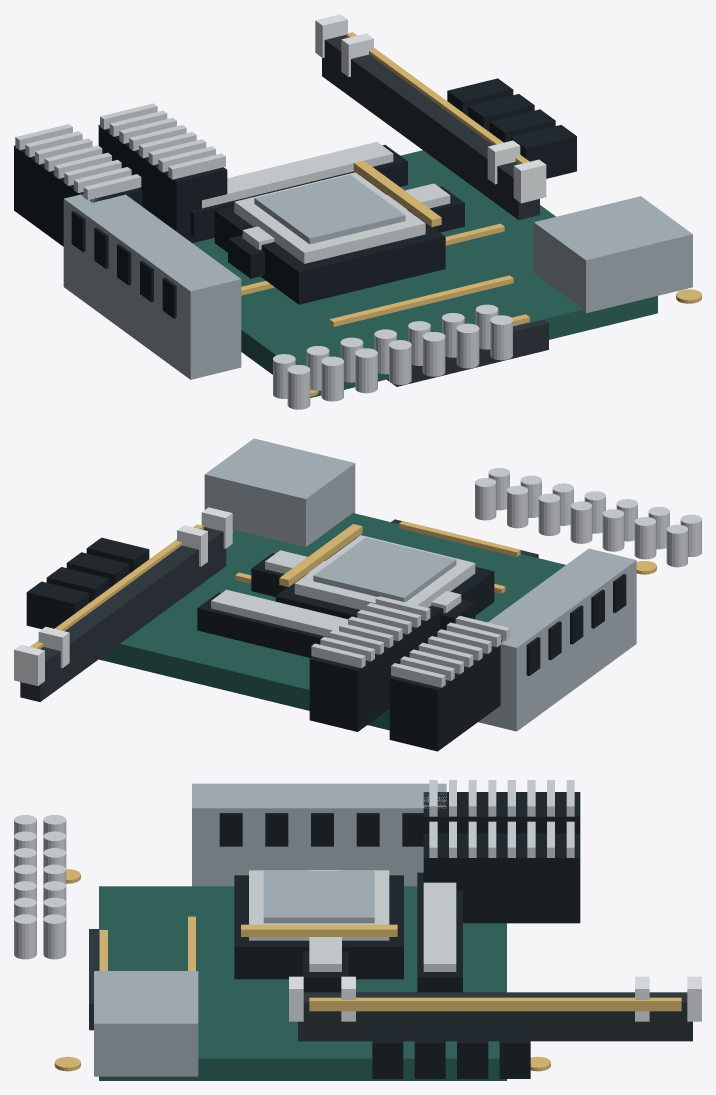
Rendered from b650-itx.glb.
3 renders of one model, top to bottom at view 1: azimuth 30°, elevation 25°; view 2: azimuth 150°, elevation 25°; view 3: azimuth 270°, elevation 25°, orthographic. The views are drawn at different scales.
Parts seen in each view (by area): view 1: b650-itx; view 2: b650-itx; view 3: b650-itx.
Boxes of the visible parts, x1,y1,x2,y2 form: b650-itx: [14, 14, 701, 409]; b650-itx: [14, 438, 701, 751]; b650-itx: [14, 780, 701, 1080].
Size of the model in its own units: 1.7 by 0.3625 by 2.11.
